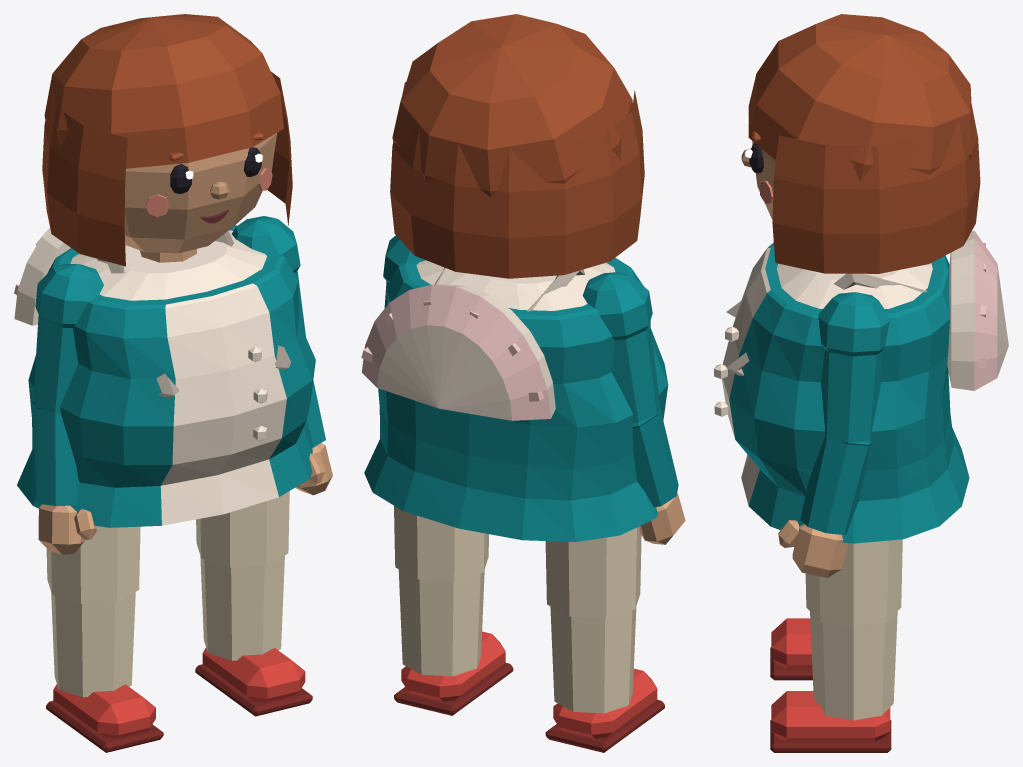
File: cor-k3.glb
The picture shows the model from 3 angles, left to right: view 1: azimuth 30°, elevation 25°; view 2: azimuth 150°, elevation 25°; view 3: azimuth 270°, elevation 25°; orthographic projection.
Parts seen in each view (by area): view 1: mantel, haare, bein_r, bein_l, arm_r, kopf, torso, schuh_l, schuh_r, accessoire_shellpack, arm_l, gesicht (+3 smaller); view 2: haare, mantel, accessoire_shellpack, bein_r, bein_l, arm_r, torso, schuh_r, schuh_l, hand_r, arm_l; view 3: haare, mantel, bein_l, arm_l, accessoire_shellpack, schuh_l, torso, hand_l, schuh_r, gesicht, kopf, knöpfe.
Boxes of the visible parts, bbox=[...] form: mantel: bbox=[17, 225, 315, 527]; haare: bbox=[42, 14, 292, 266]; bein_r: bbox=[46, 526, 140, 697]; bein_l: bbox=[196, 491, 289, 660]; arm_r: bbox=[33, 263, 103, 505]; kopf: bbox=[124, 133, 277, 253]; torso: bbox=[70, 230, 266, 300]; schuh_l: bbox=[195, 648, 312, 716]; schuh_r: bbox=[46, 684, 163, 752]; accessoire_shellpack: bbox=[14, 227, 290, 398]; arm_l: bbox=[232, 216, 325, 448]; gesicht: bbox=[145, 132, 272, 223]; haare: bbox=[390, 14, 644, 278]; mantel: bbox=[364, 257, 668, 541]; accessoire_shellpack: bbox=[361, 267, 585, 420]; bein_r: bbox=[545, 526, 641, 713]; bein_l: bbox=[394, 506, 488, 676]; arm_r: bbox=[582, 272, 678, 507]; torso: bbox=[416, 260, 615, 310]; schuh_r: bbox=[545, 668, 664, 752]; schuh_l: bbox=[394, 631, 513, 715]; hand_r: bbox=[639, 493, 685, 544]; arm_l: bbox=[383, 235, 425, 307]; haare: bbox=[748, 14, 980, 273]; mantel: bbox=[722, 242, 969, 543]; bein_l: bbox=[805, 539, 902, 720]; arm_l: bbox=[800, 292, 889, 534]; accessoire_shellpack: bbox=[726, 230, 1008, 390]; schuh_l: bbox=[770, 691, 891, 752]; torso: bbox=[777, 263, 932, 308]; hand_l: bbox=[778, 520, 847, 577]; schuh_r: bbox=[770, 618, 812, 680]; gesicht: bbox=[741, 115, 773, 203]; kopf: bbox=[752, 141, 775, 219]; knöpfe: bbox=[714, 326, 738, 416].
Bounding box in the file's own units: 0.0102 × 0.0229 × 0.00914.
